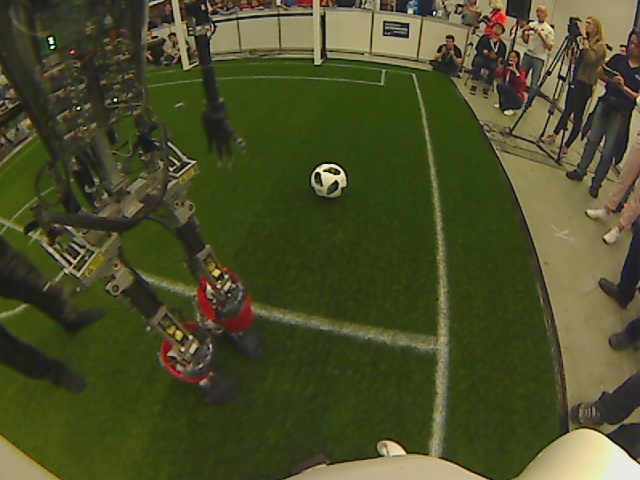ball: (307, 161, 350, 200)
goalpost: (169, 46, 200, 80), (304, 45, 328, 76)
robot: (155, 274, 265, 403)
